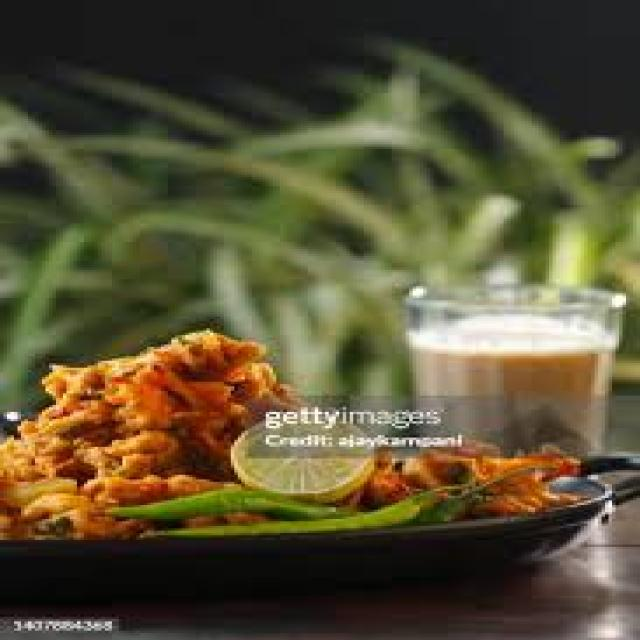BAJI: (0, 340, 570, 540)
